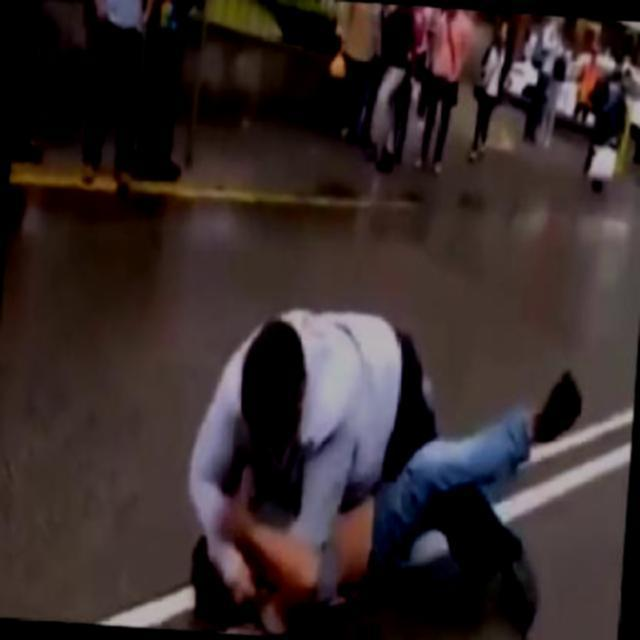fight: (178, 284, 594, 638)
